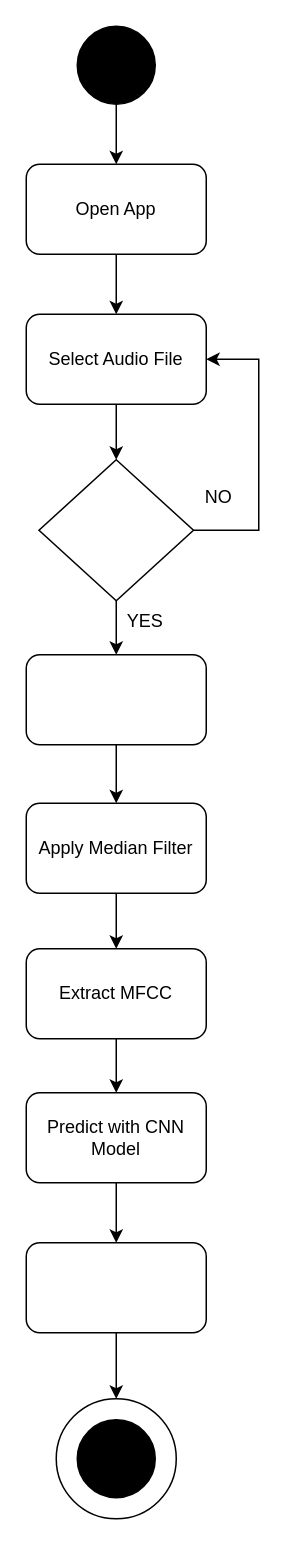
The diagram is 297 pixels wide and 1545 high, and some of its shapes have lost their labels. Here are the shapes that lost their labels. From the top down, the centre of each, then its label:
At pixel 116 529: "Audio Selected".
At pixel 115 699: "Upload".
At pixel 115 1287: "Display Prediction".
